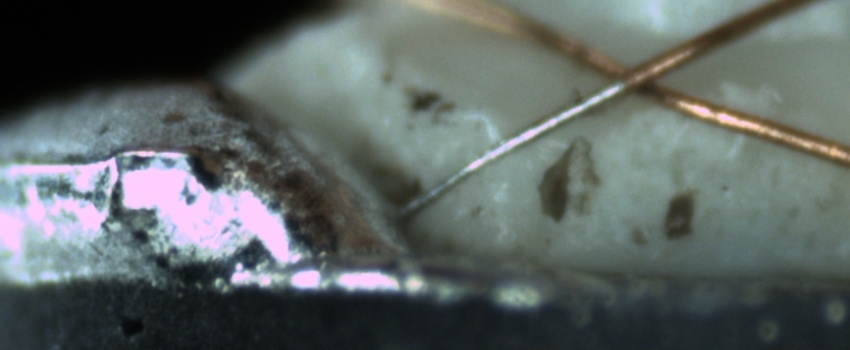CL: (582, 42, 686, 108)
TS: (399, 79, 627, 218)
TTCW: (388, 49, 684, 225)
